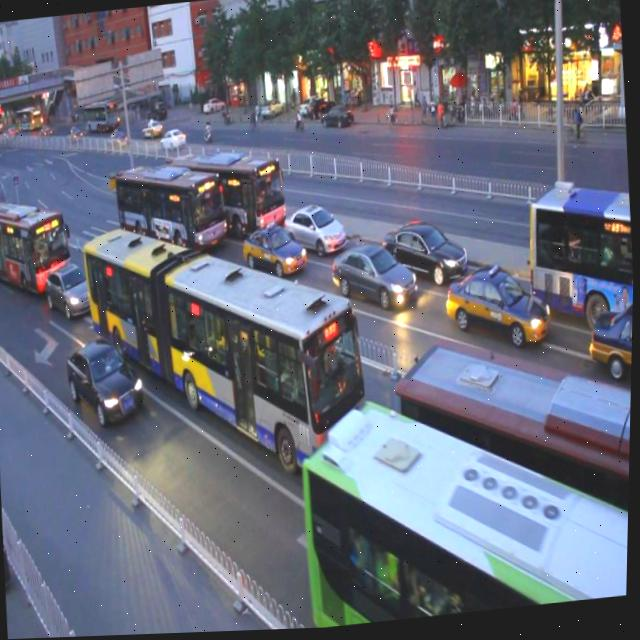car: (442, 257, 553, 360), (65, 336, 148, 430), (328, 233, 417, 318), (382, 212, 470, 290), (238, 214, 307, 283), (280, 193, 346, 262), (587, 299, 634, 384), (43, 258, 100, 321)
van: (76, 197, 377, 501), (296, 375, 633, 631), (390, 325, 634, 621), (523, 177, 637, 332), (110, 148, 229, 268), (168, 136, 289, 246), (0, 186, 71, 288)
